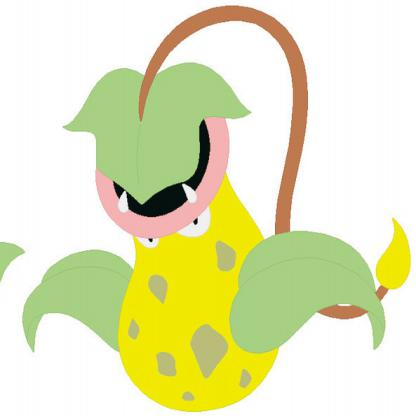Victreebel: (26, 21, 404, 406)
